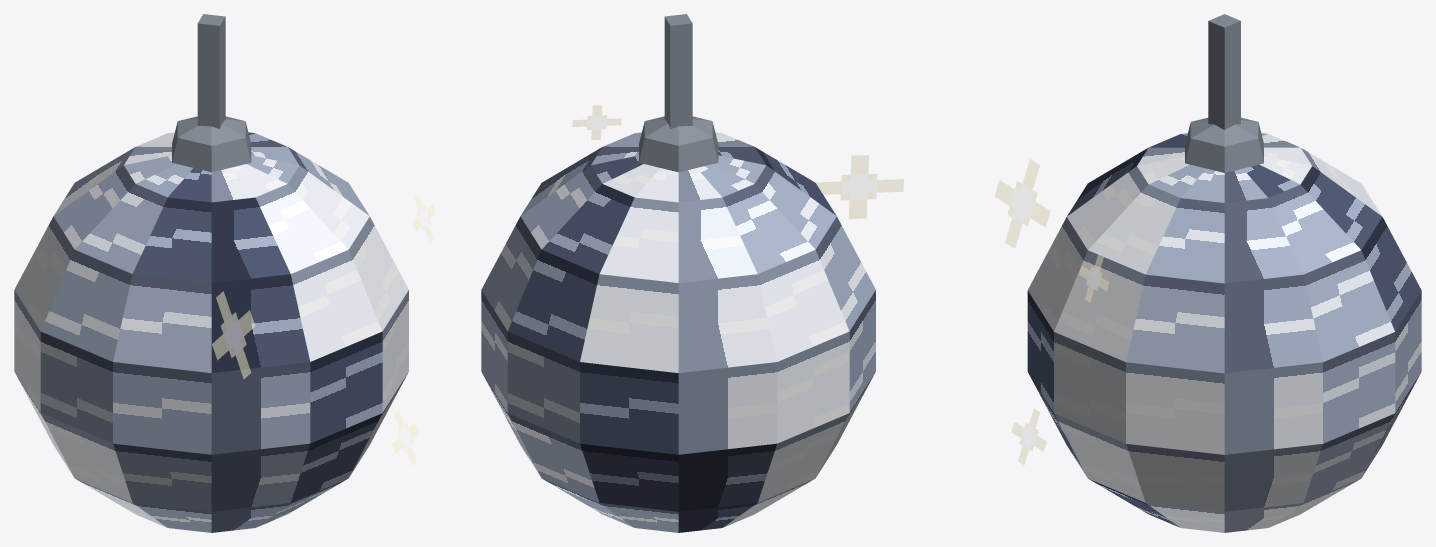
File: fun-discoBall.glb
3 views of the same model, side by side, from view 1: azimuth 30°, elevation 25°; view 2: azimuth 150°, elevation 25°; view 3: azimuth 270°, elevation 25° (orthographic).
Visible parts, largest first — view 1: fun.discoBall; view 2: fun.discoBall; view 3: fun.discoBall.
Boxes of the visible parts, bbox=[...] form: fun.discoBall: bbox=[14, 14, 435, 532]; fun.discoBall: bbox=[481, 14, 903, 532]; fun.discoBall: bbox=[994, 14, 1421, 532].
Size of the model in its own units: 1.45 by 1.95 by 1.65.
5 materials, 4 textured.
